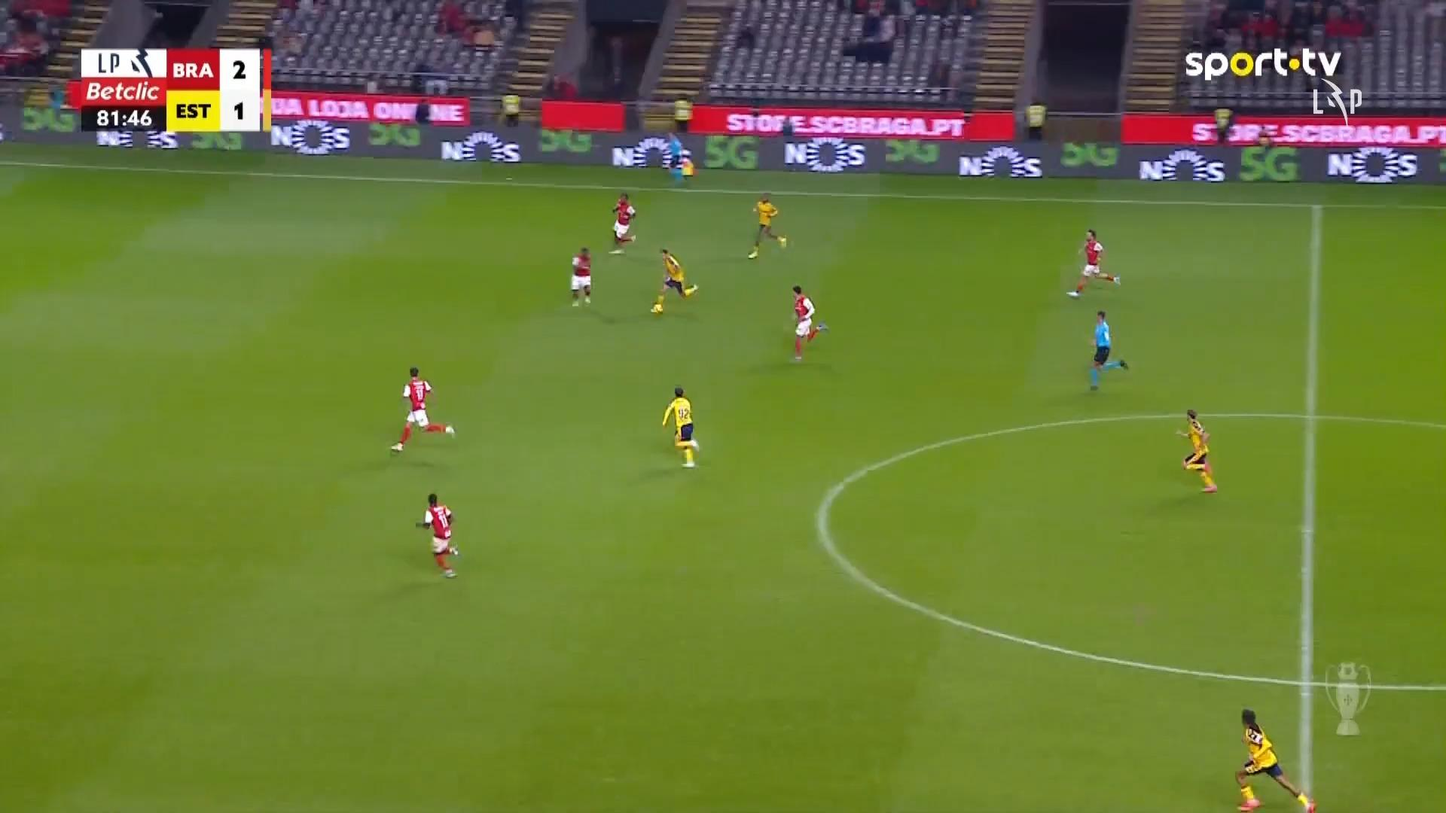ball: (652, 303, 664, 314)
player: (1234, 707, 1316, 811), (389, 366, 455, 452), (1066, 228, 1121, 297), (415, 492, 459, 578), (1175, 408, 1218, 492), (660, 385, 700, 468), (650, 248, 698, 314), (789, 284, 828, 361), (746, 193, 786, 259), (609, 192, 636, 254), (569, 246, 592, 306)
referee: (1087, 309, 1128, 391), (666, 132, 695, 186)
